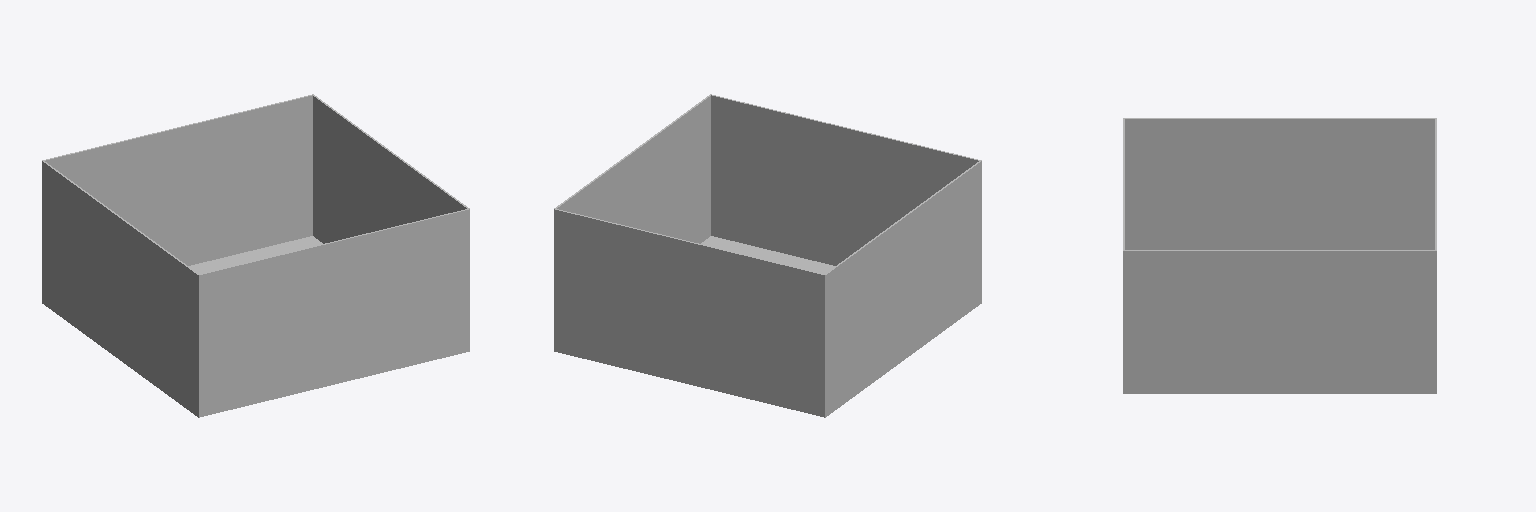
The model's file is Map.obj.
The picture shows the model from 3 angles: view 1: azimuth 30°, elevation 25°; view 2: azimuth 150°, elevation 25°; view 3: azimuth 270°, elevation 25°; orthographic projection.
Visible parts, largest first — view 1: object 1; view 2: object 1; view 3: object 1.
Boxes of the visible parts, <box> form: object 1: <box>42,94,469,417</box>; object 1: <box>554,94,981,417</box>; object 1: <box>1123,118,1436,393</box>.
Size of the model in its own units: 15 by 7.5 by 15.